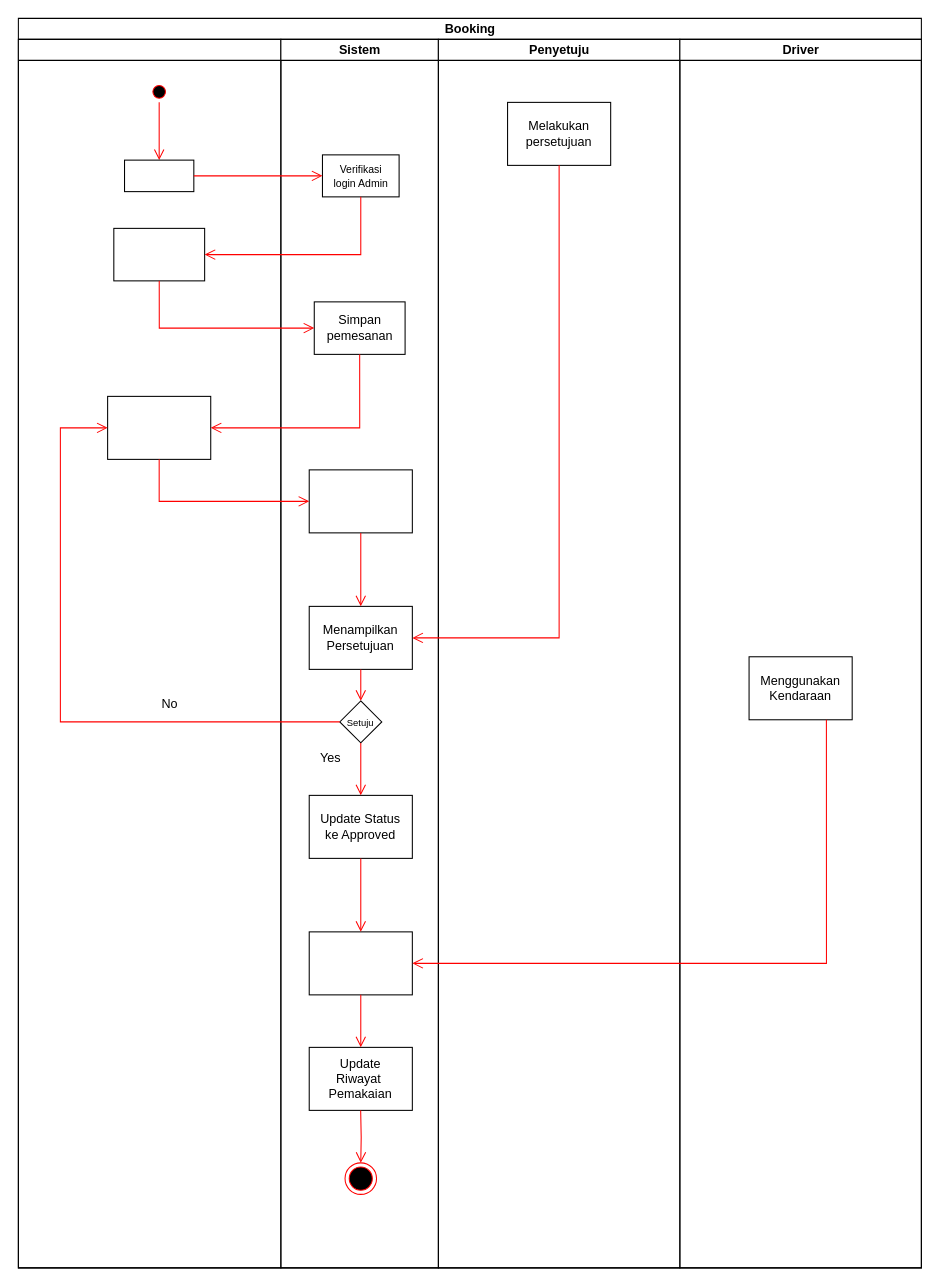
This 940x1286 diagram has some shape labels left out. Each missing label, with the box of its shape:
Admin: (17, 38, 281, 1268)
Input pemesanan kendaraan: (113, 227, 205, 281)
Kirim Persetujuan: (308, 469, 412, 533)
Login: (123, 159, 194, 192)
Menampilkan Persetujuan ke Driver: (308, 931, 412, 995)
Menentukan Driver & penyetuju: (107, 395, 211, 459)
